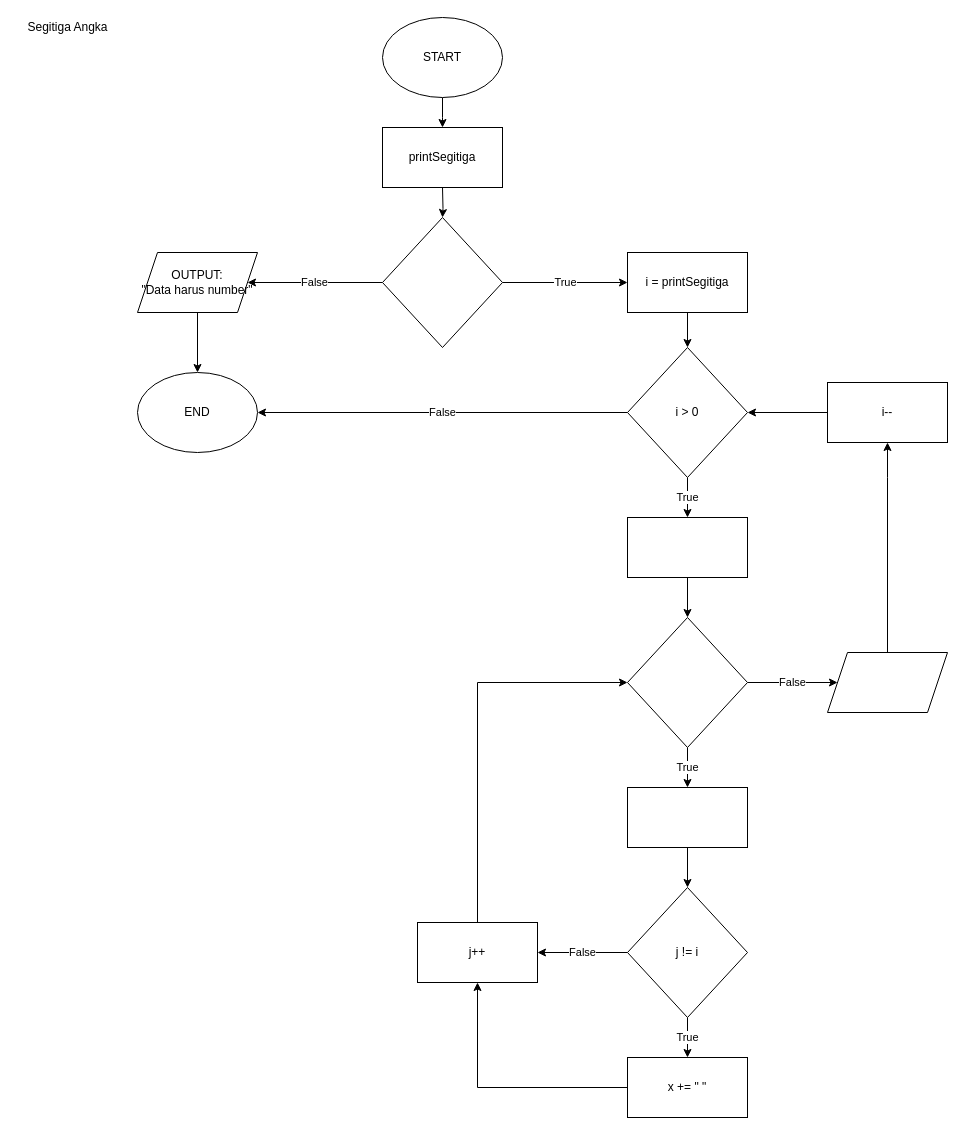
Image size: 965x1135. Some labels were removed from this diagram. The shapes that lost their labels are listed below. From the top down, each one's centre as x and y in pixels, then its label:
point 442,282: printSegitiga == number
point 687,547: x = "" j = 1
point 687,682: j <= i
point 887,682: OUTPUT: x
point 687,817: x += j
